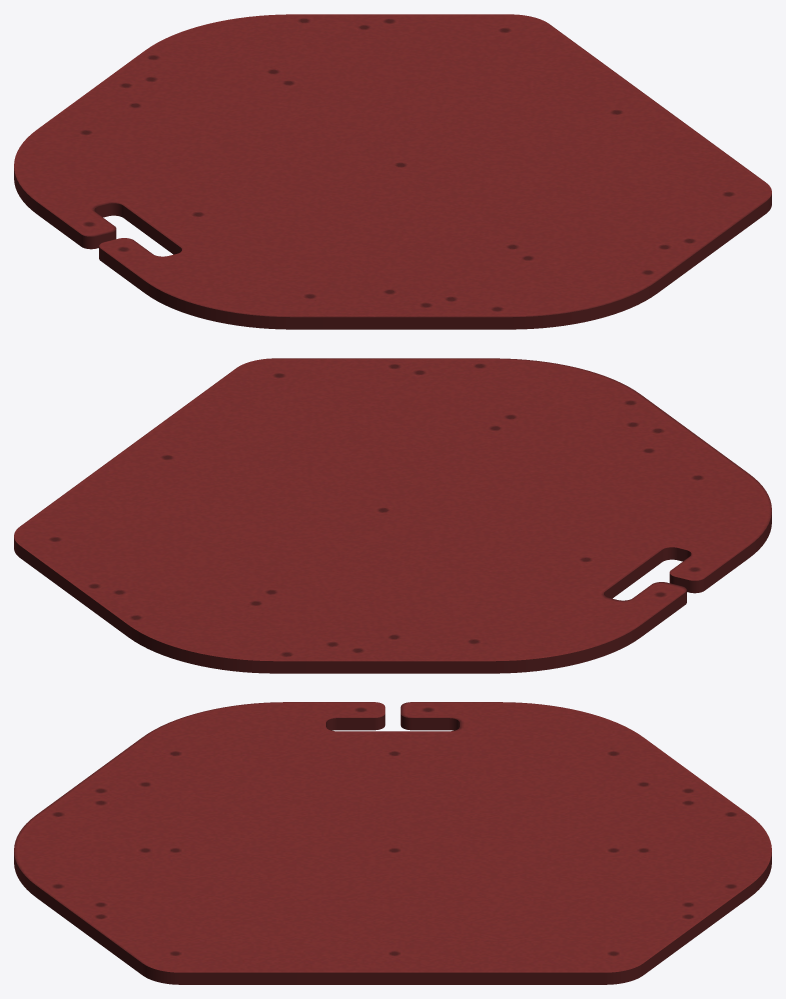
The model's file is plate_middle_red.dae.
3 views of the same model, one above another, from view 1: azimuth 30°, elevation 25°; view 2: azimuth 150°, elevation 25°; view 3: azimuth 270°, elevation 25° (orthographic). The views are drawn at different scales.
Visible parts, largest first — view 1: _f_stack; view 2: _f_stack; view 3: _f_stack.
Part boxes in pixels (x1,y1,x2,y2): _f_stack: (14, 14, 771, 329); _f_stack: (14, 358, 771, 673); _f_stack: (14, 702, 771, 984).
Bounding box in the file's own units: 0.2873 × 0.34 × 0.006.
1 material, 1 textured.
